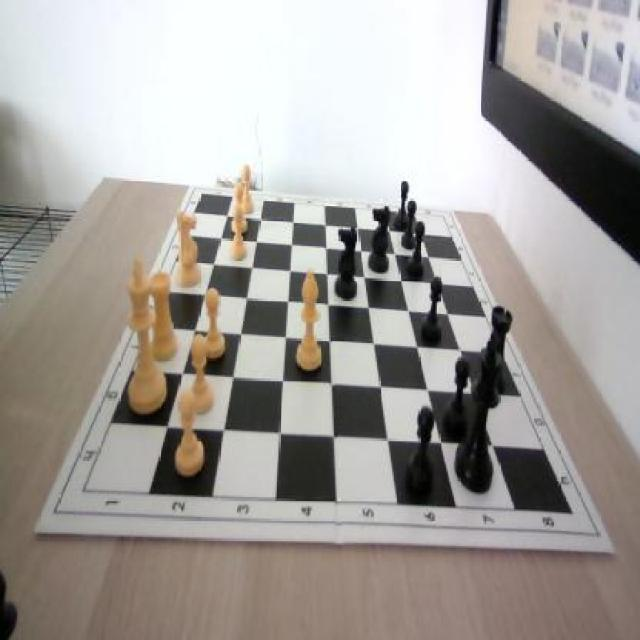black-bishop: (454, 331, 501, 495)
black-king: (334, 224, 359, 300), (368, 203, 390, 273)
black-knight: (406, 409, 436, 497), (443, 354, 469, 439), (420, 274, 443, 344), (408, 223, 424, 279), (394, 182, 410, 233), (402, 200, 418, 248)
black-queen: (478, 305, 512, 390)
black-rook: (295, 268, 323, 370)
white-bishop: (121, 260, 167, 414)
white-king: (175, 210, 201, 286)
white-knight: (172, 391, 205, 480), (190, 335, 218, 418), (200, 286, 226, 358), (230, 204, 248, 260), (231, 182, 246, 234), (240, 163, 253, 213)
white-queen: (148, 272, 178, 361)
